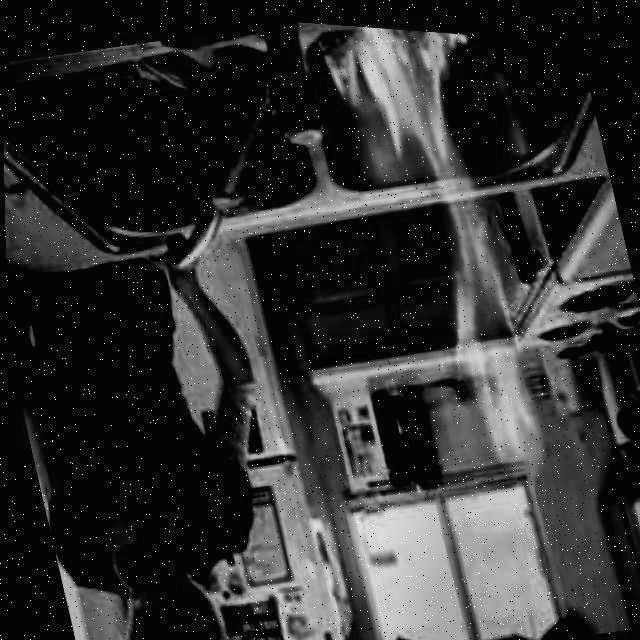Fire: (317, 18, 555, 481)
